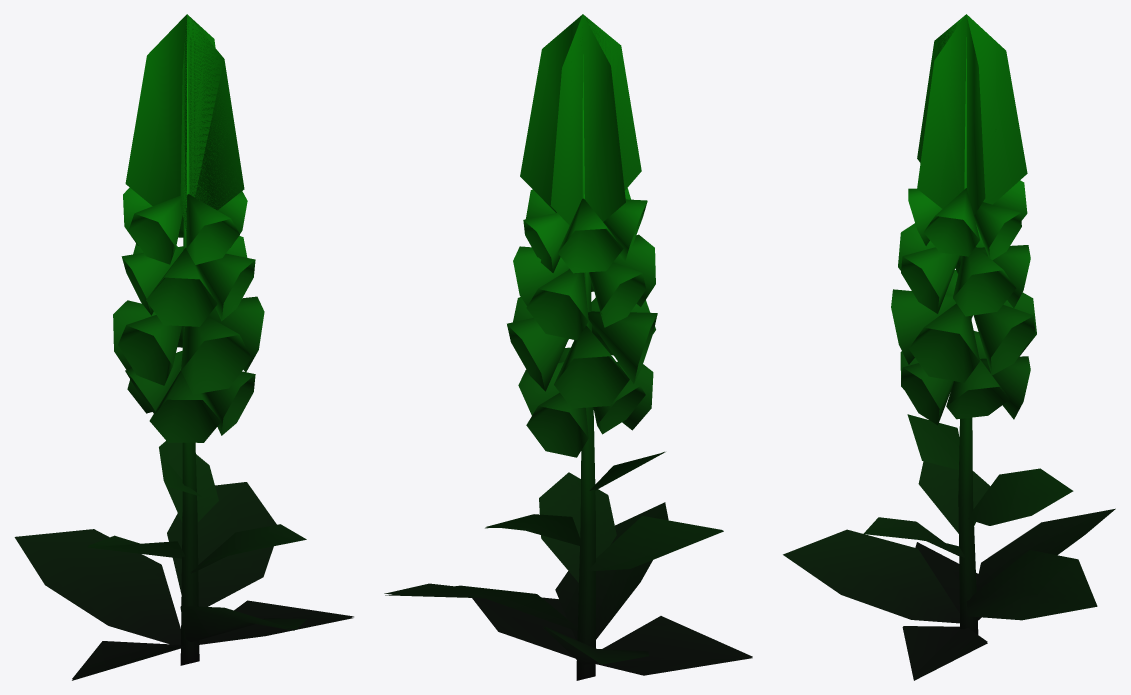
Rendered from TGV_Flower_01A.fbx.
3 views of the same model, side by side, from view 1: azimuth 30°, elevation 25°; view 2: azimuth 150°, elevation 25°; view 3: azimuth 270°, elevation 25° (orthographic). The views are drawn at different scales.
Parts seen in each view (by area): view 1: TGV_Flower_01A_LOD0; view 2: TGV_Flower_01A_LOD0; view 3: TGV_Flower_01A_LOD0.
Part boxes in pixels (x1,y1,x2,y2): TGV_Flower_01A_LOD0: [14, 14, 353, 680]; TGV_Flower_01A_LOD0: [384, 14, 752, 680]; TGV_Flower_01A_LOD0: [783, 14, 1115, 680].
Size of the model in its own units: 44.81 by 98.38 by 47.48.
